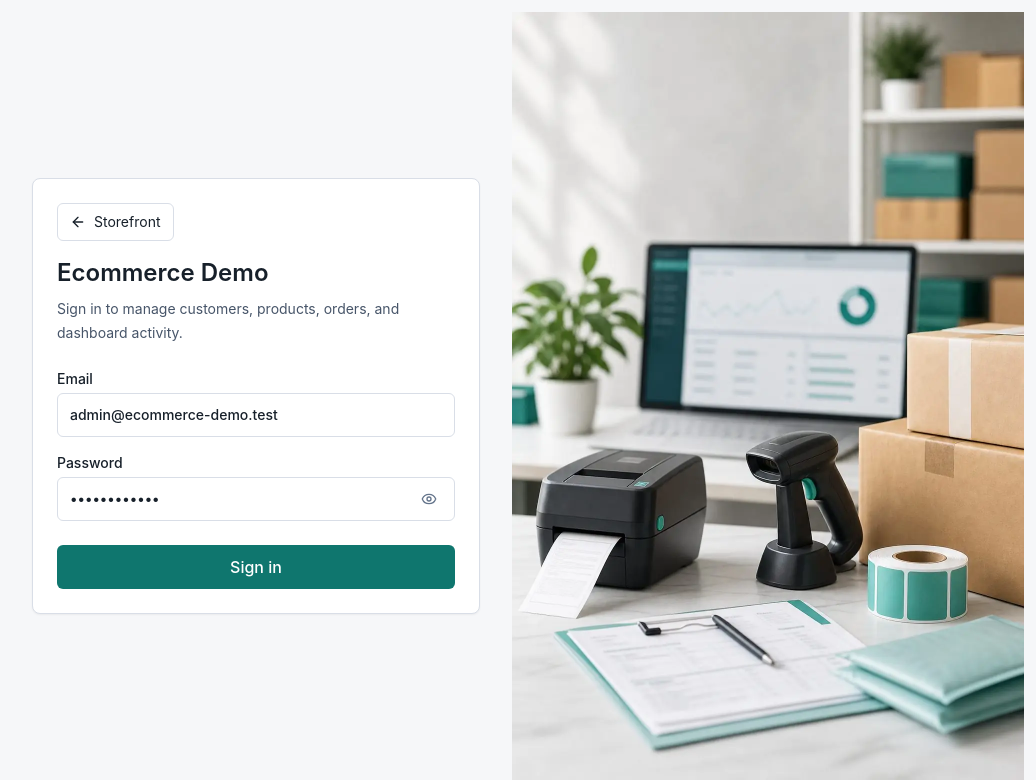
Test: LoginScreen › toggles password visibility
The width and height of the screenshot is (1036, 780).
Click the button named "Show password": (429, 499) [409,479,449,519]
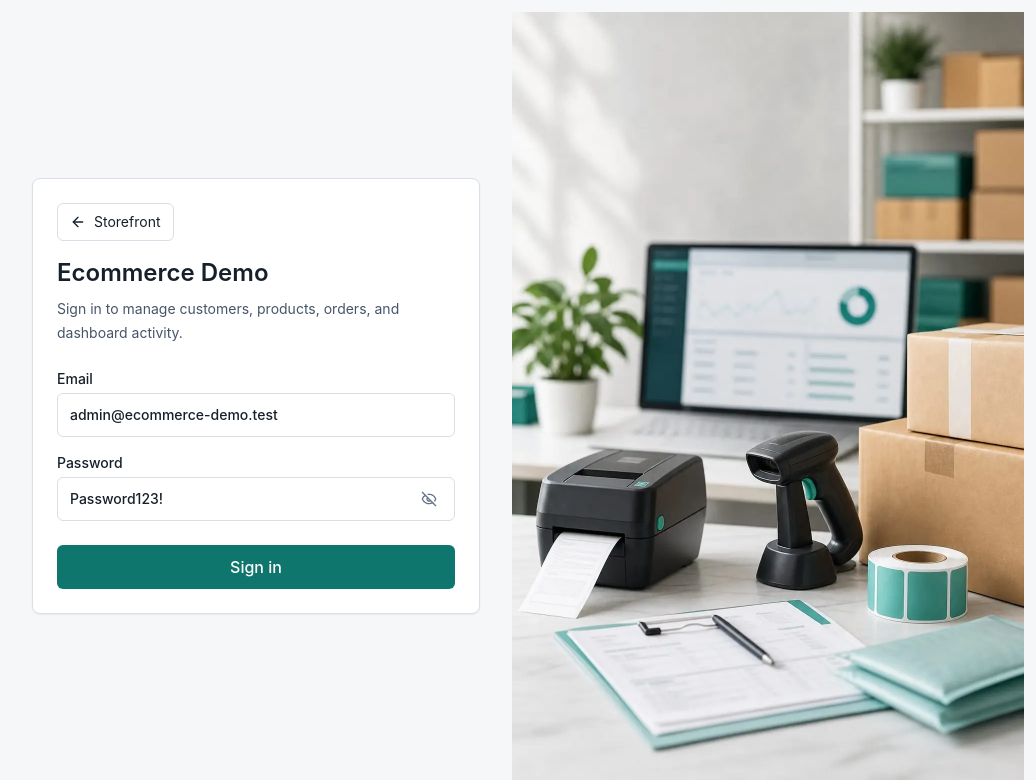
Result: the field labelled "Password" shows its text at [57,477,455,521]
Click the button named "Hide password": (429, 499) [409,479,449,519]
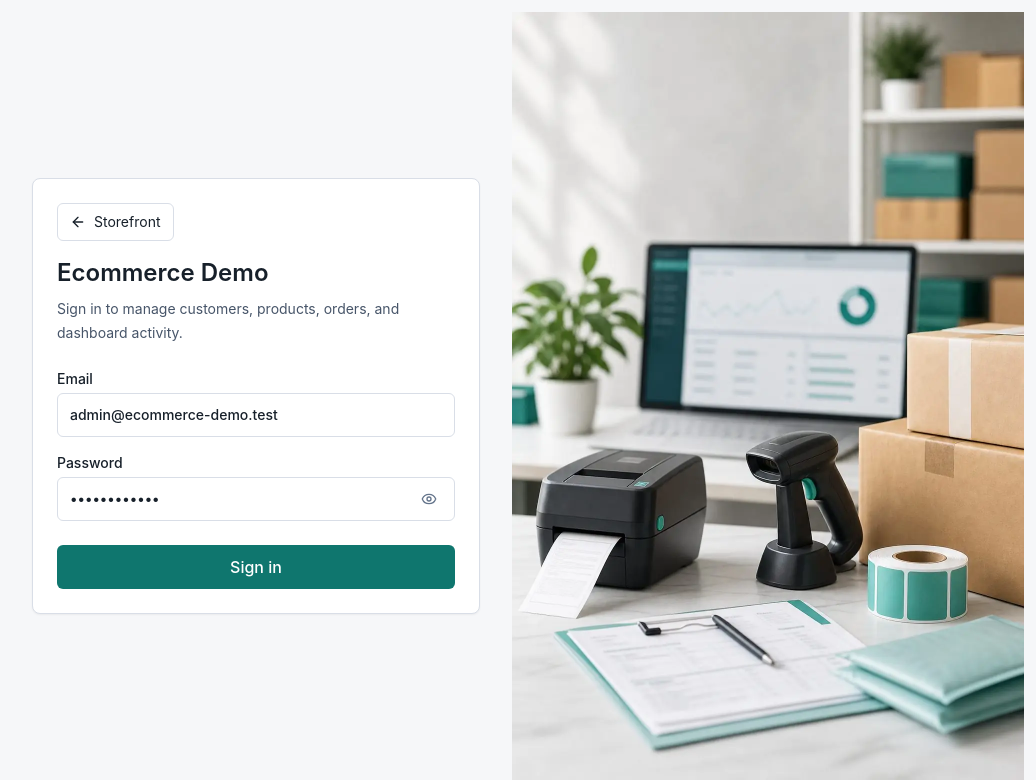
Result: the password field labelled "Password" hides its text at [57,477,455,521]
